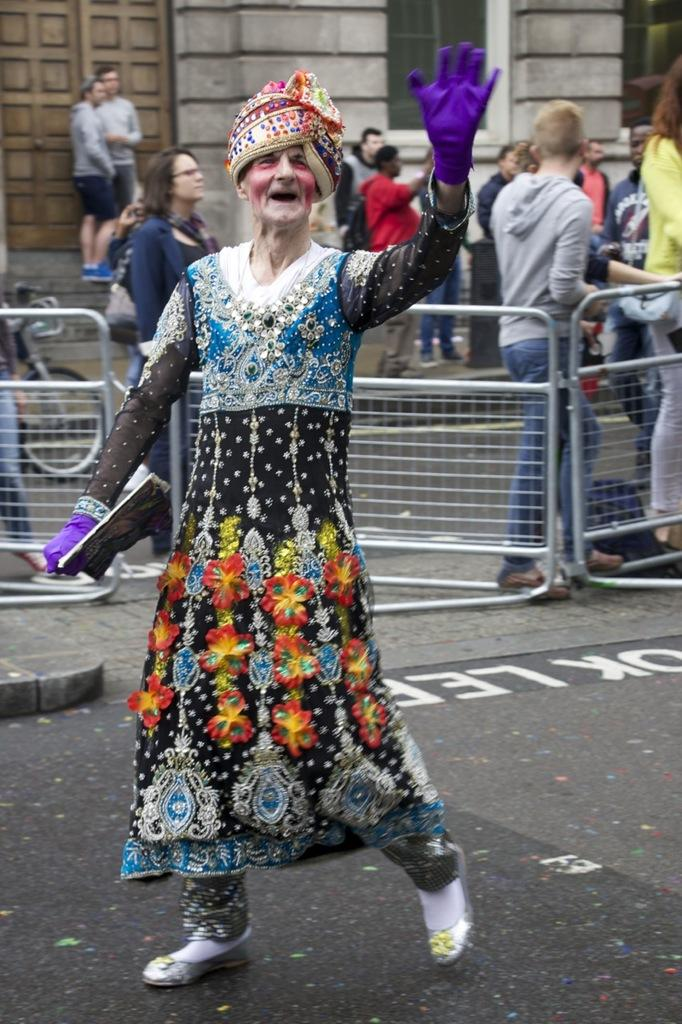Sem Máscara: (246, 142, 317, 219), (169, 155, 201, 196), (626, 126, 658, 161), (497, 149, 516, 179), (96, 66, 116, 93), (359, 128, 380, 153), (582, 141, 602, 159), (361, 135, 382, 150), (87, 82, 97, 99)
